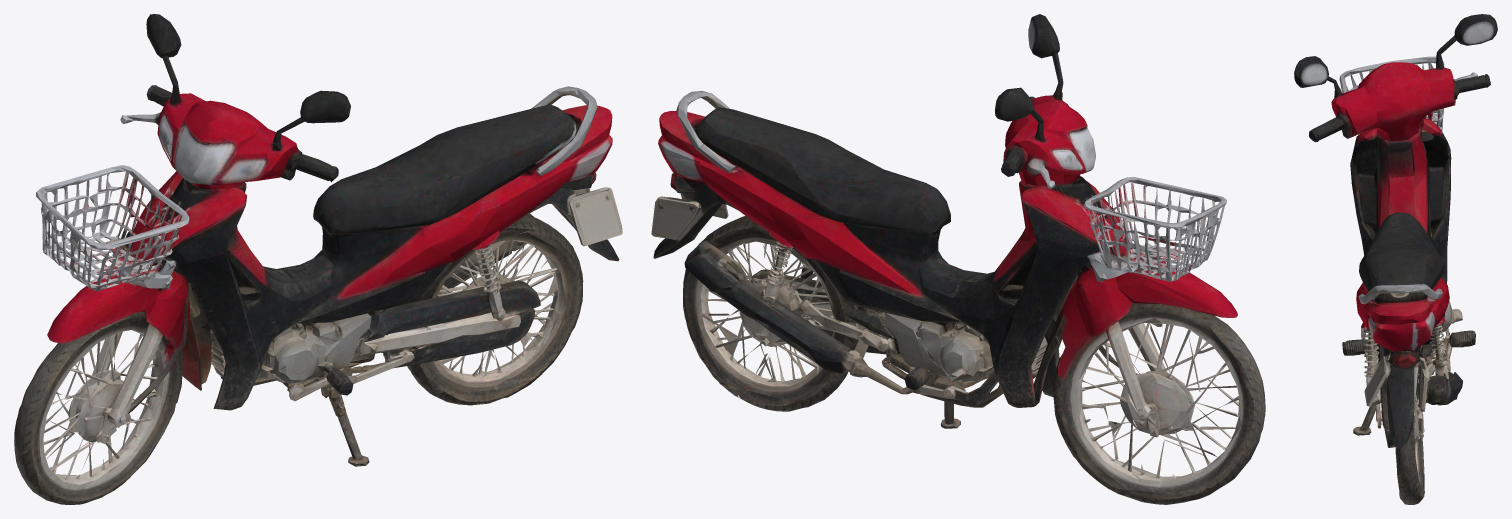
Rendered from w3scooter.glb.
3 views of the same model, side by side, from view 1: azimuth 30°, elevation 25°; view 2: azimuth 150°, elevation 25°; view 3: azimuth 270°, elevation 25° (orthographic). The views are drawn at different scales.
Parts seen in each view (by area): view 1: output_unwrapped; view 2: output_unwrapped; view 3: output_unwrapped.
Part boxes in pixels (x1,y1,x2,y2): output_unwrapped: (14, 14, 622, 504); output_unwrapped: (651, 14, 1265, 504); output_unwrapped: (1294, 14, 1497, 504).
Size of the model in its own units: 1.88 by 1.25 by 0.6355.
Materials: 1 (1 with a texture image).
